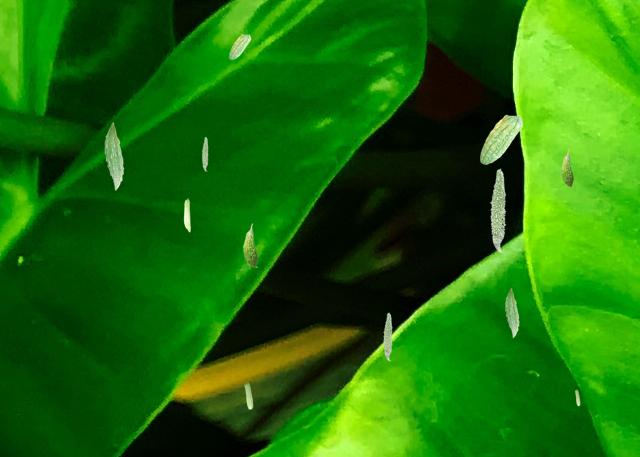ampalaya: (479, 114, 523, 165), (489, 168, 506, 252), (104, 122, 124, 190), (242, 223, 258, 268), (505, 287, 519, 338), (228, 34, 251, 60), (560, 149, 574, 187), (383, 312, 392, 361), (183, 197, 191, 232), (201, 136, 208, 171), (244, 382, 253, 409), (574, 389, 580, 406)
